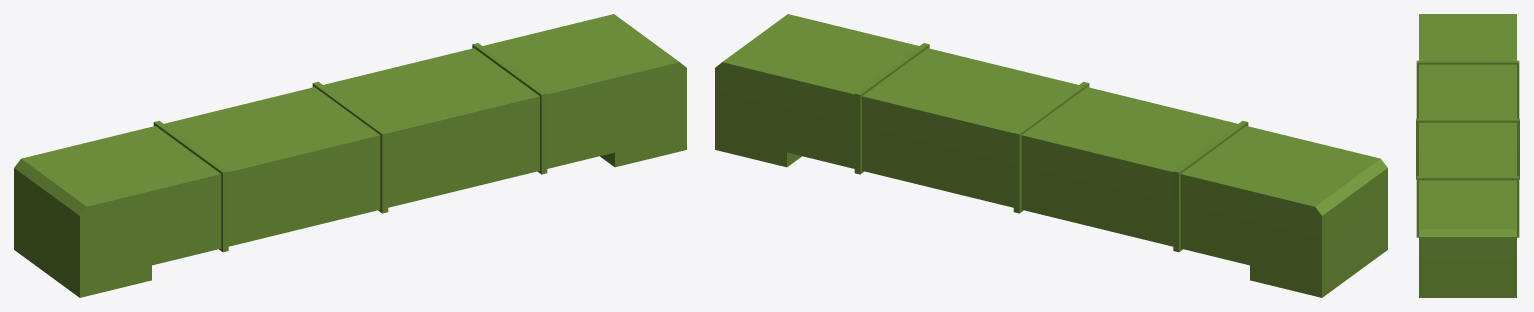
The model's file is HousePart_09.fbx.
The picture shows the model from 3 angles, left to right: view 1: azimuth 30°, elevation 25°; view 2: azimuth 150°, elevation 25°; view 3: azimuth 270°, elevation 25°; orthographic projection. The views are drawn at different scales.
Parts seen in each view (by area): view 1: HousePart_09; view 2: HousePart_09; view 3: HousePart_09.
Boxes of the visible parts, <box> form: HousePart_09: <box>14,14,686,297</box>; HousePart_09: <box>715,14,1387,297</box>; HousePart_09: <box>1416,14,1519,297</box>.
Bounding box in the file's own units: 2.13 × 0.3086 × 0.4252.
